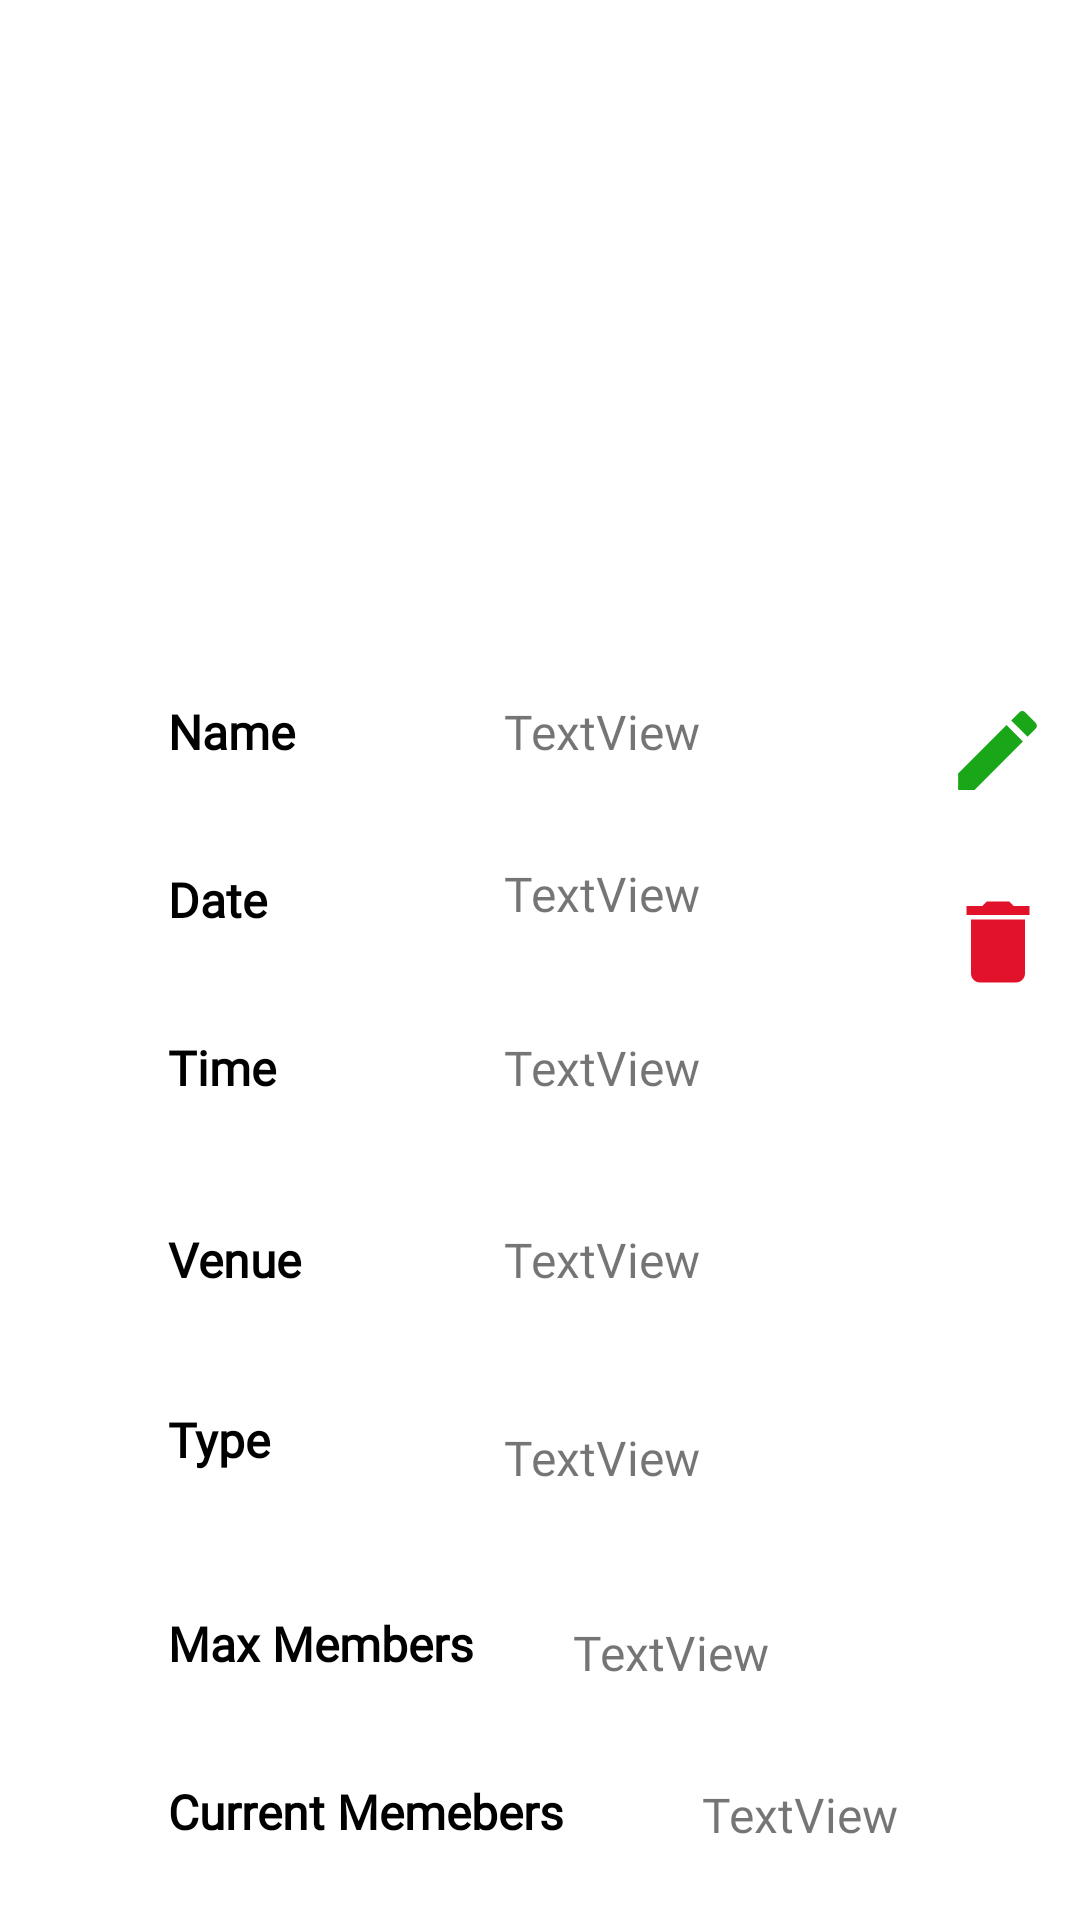

Where to tap for icons on this 1080×1920 app screen, as (x=x, y=y):
delete 24d: (x=998, y=942)
edit: (x=997, y=750)
